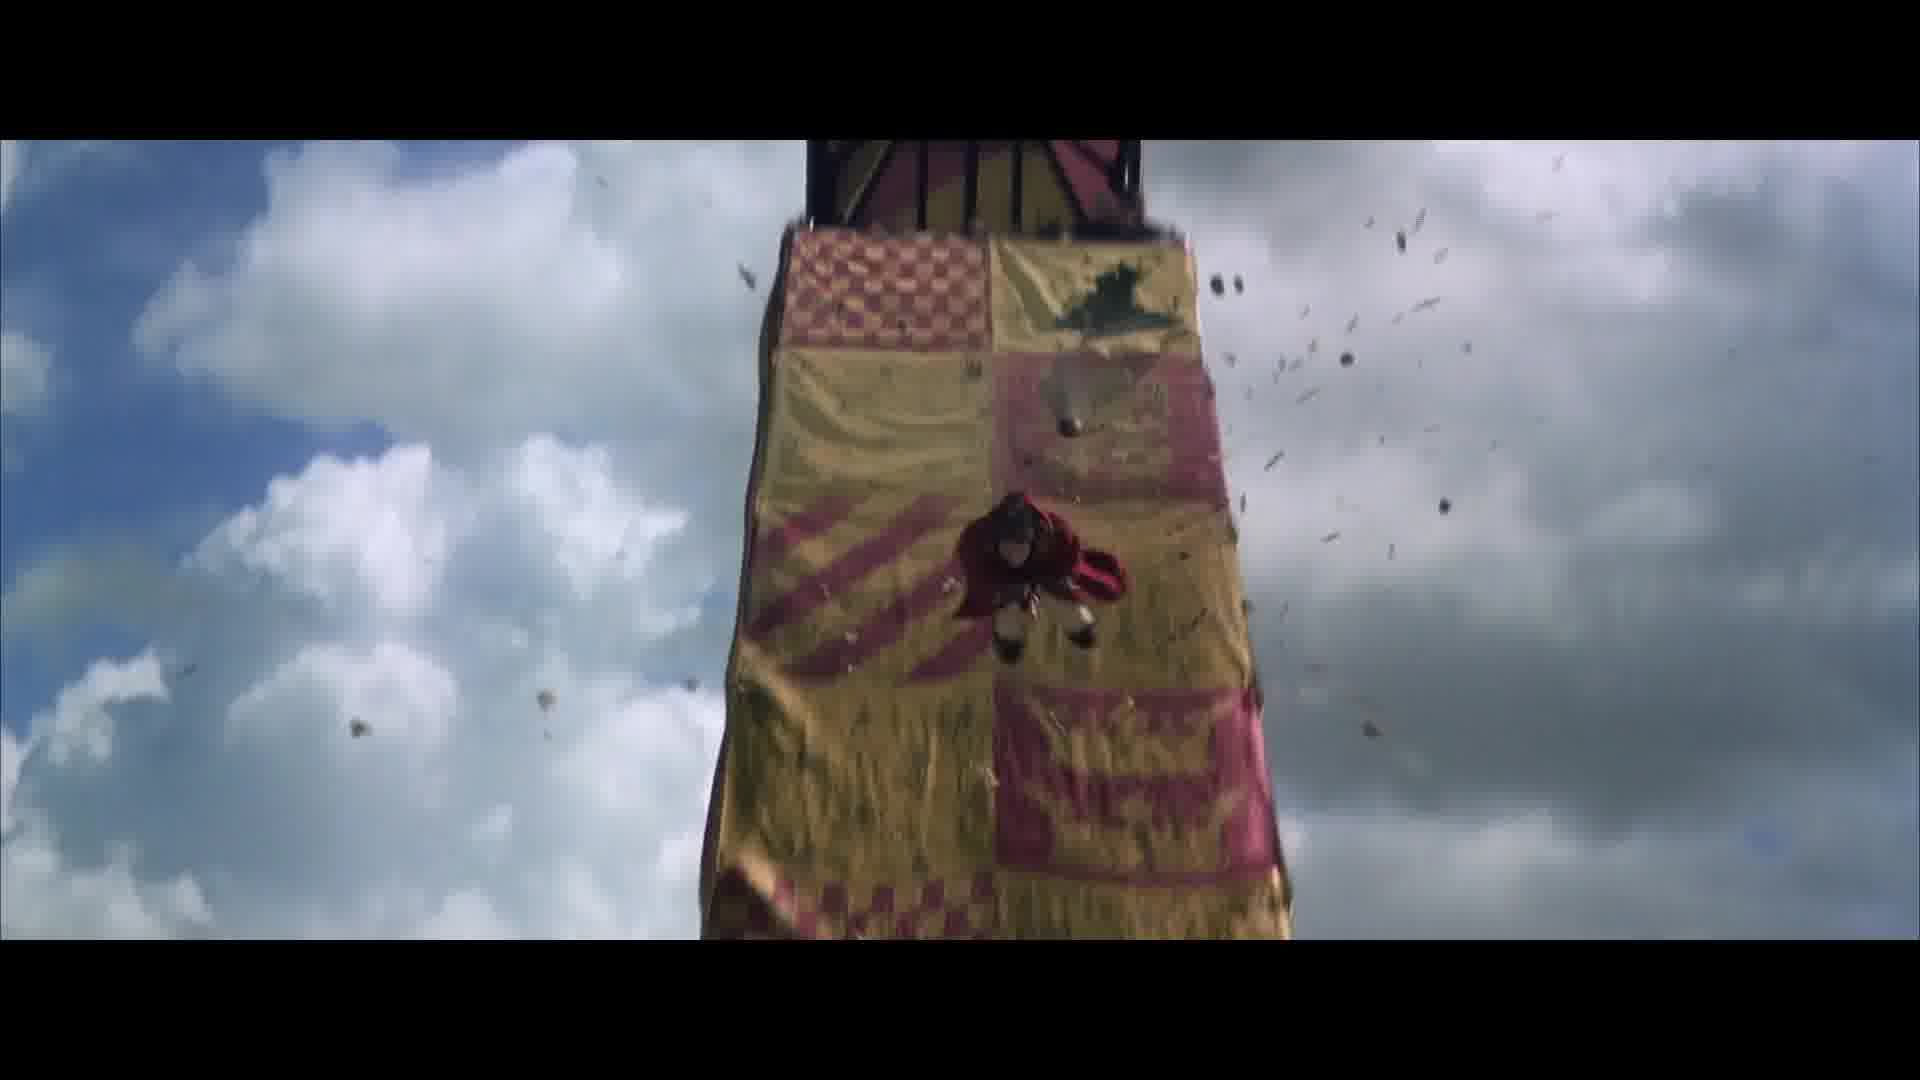bludger: (1052, 410, 1084, 440)
